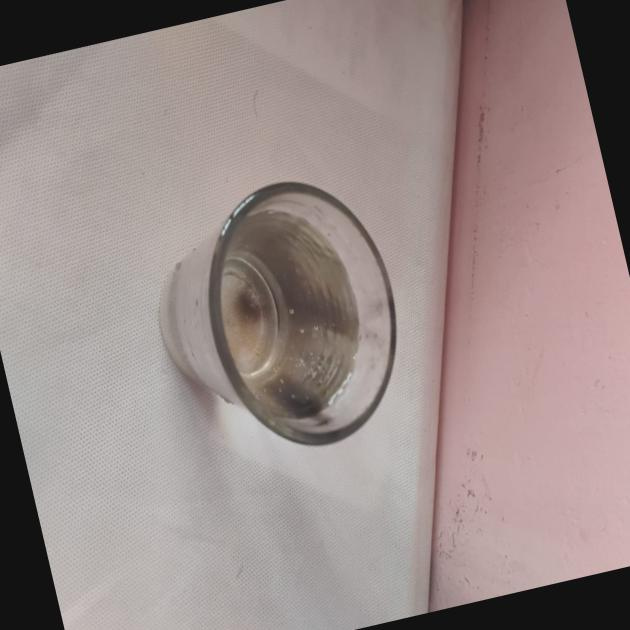glass of water: (140, 171, 436, 538)
